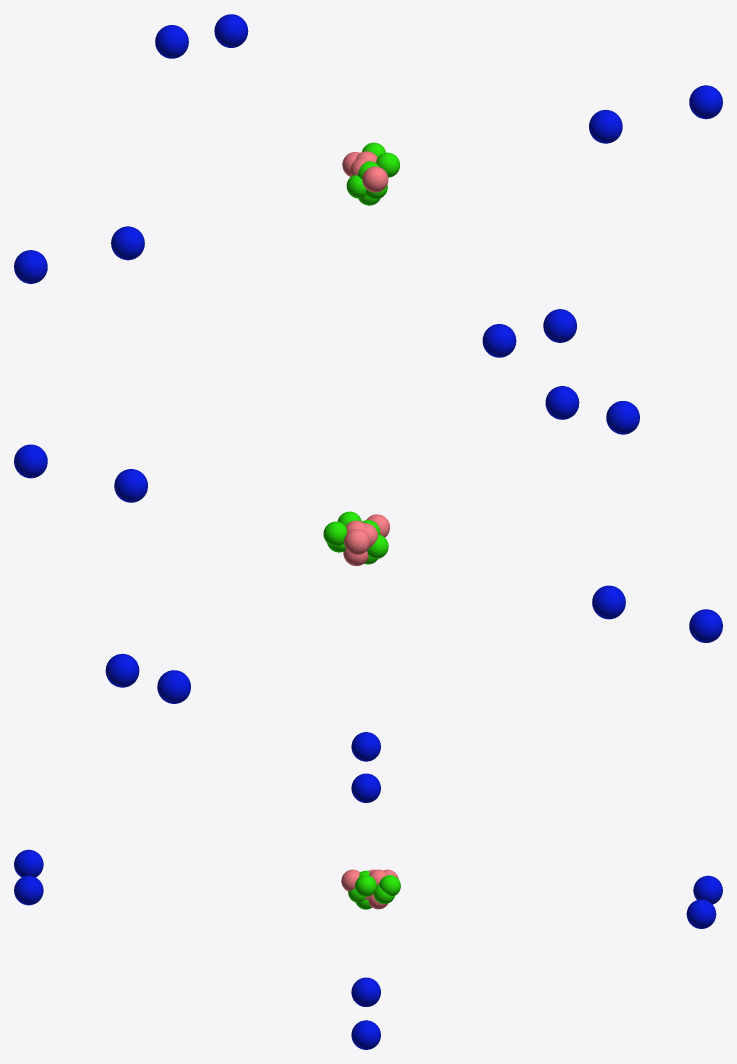
Rendered from oxygen.glb.
The picture shows the model from 3 angles, top to bottom: view 1: azimuth 30°, elevation 25°; view 2: azimuth 150°, elevation 25°; view 3: azimuth 270°, elevation 25°; orthographic projection. The views are drawn at different scales.
Visible parts, largest first — view 1: Sphere.006, Sphere.012, Sphere.014, Sphere.007, Sphere.011, Sphere.020, Sphere.019, Sphere.008, Sphere.010; view 2: Sphere.019, Sphere.006, Sphere.014, Sphere.007, Sphere.008, Sphere.012, Sphere.011, Sphere.020, Sphere.015; view 3: Sphere.012, Sphere.014, Sphere.006, Sphere.007, Sphere.008, Sphere.020, Sphere.019, Sphere.011.
Part boxes in pixels (bbox=[...]): Sphere.006: bbox=[589, 110, 622, 143]; Sphere.012: bbox=[14, 250, 47, 283]; Sphere.014: bbox=[689, 85, 722, 119]; Sphere.007: bbox=[111, 226, 144, 260]; Sphere.011: bbox=[155, 25, 188, 58]; Sphere.020: bbox=[214, 14, 248, 47]; Sphere.019: bbox=[482, 324, 516, 357]; Sphere.008: bbox=[543, 309, 576, 342]; Sphere.010: bbox=[362, 166, 388, 192]; Sphere.019: bbox=[606, 401, 639, 434]; Sphere.006: bbox=[114, 469, 147, 502]; Sphere.014: bbox=[14, 444, 47, 478]; Sphere.007: bbox=[592, 585, 625, 619]; Sphere.008: bbox=[545, 386, 579, 419]; Sphere.012: bbox=[689, 609, 722, 642]; Sphere.011: bbox=[157, 670, 190, 703]; Sphere.020: bbox=[105, 653, 139, 687]; Sphere.015: bbox=[344, 529, 370, 554]; Sphere.012: bbox=[351, 732, 380, 761]; Sphere.014: bbox=[351, 1020, 380, 1049]; Sphere.006: bbox=[351, 977, 380, 1006]; Sphere.007: bbox=[351, 773, 380, 802]; Sphere.008: bbox=[14, 875, 43, 905]; Sphere.020: bbox=[686, 899, 716, 928]; Sphere.019: bbox=[14, 849, 43, 877]; Sphere.011: bbox=[693, 875, 722, 904].
Size of the model in its own units: 3.41 by 0.2134 by 3.39.
